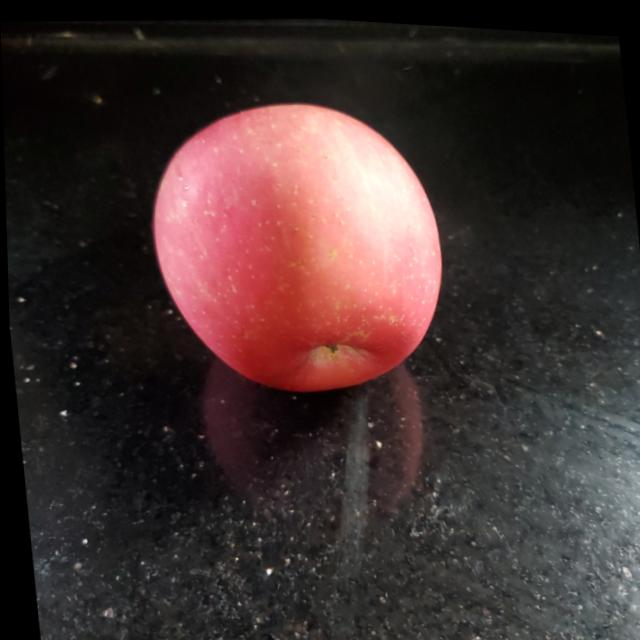apple: (138, 85, 453, 401)
